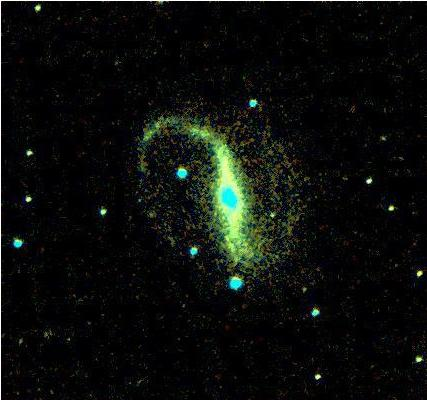star: (199, 199, 229, 229)
